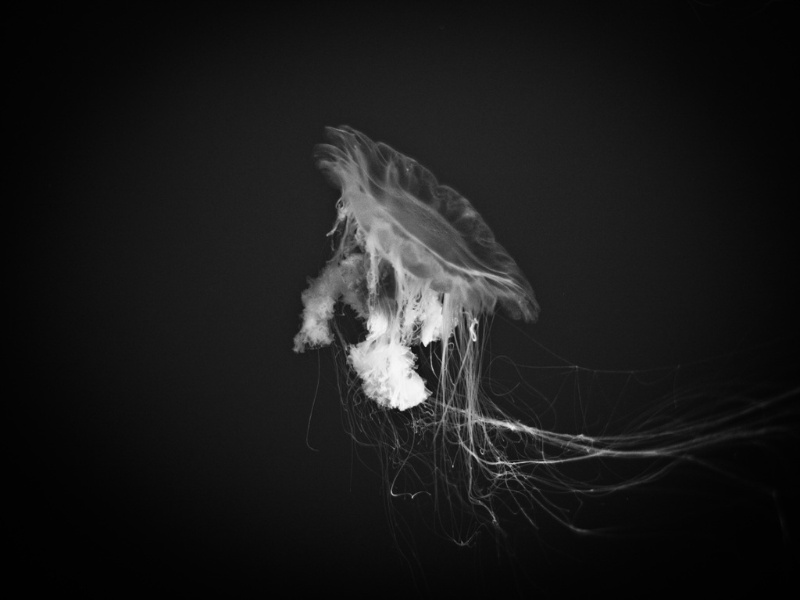Jellyfish: (291, 122, 799, 567)
